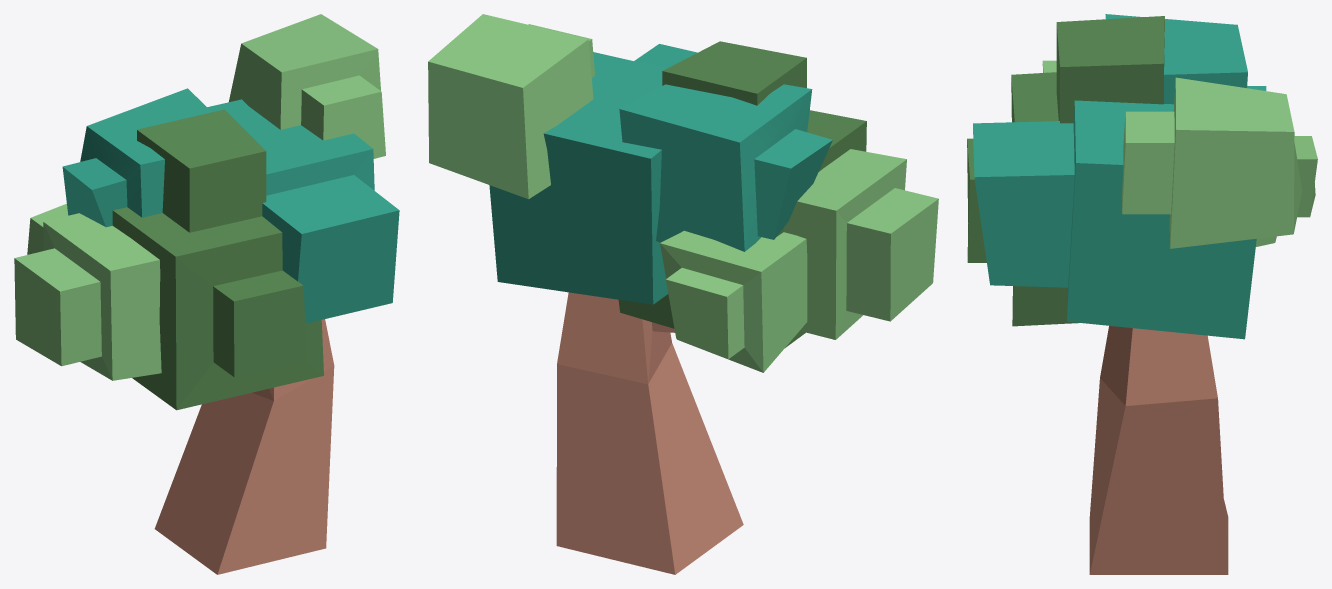
File: tree4.fbx
The picture shows the model from 3 angles, left to right: view 1: azimuth 30°, elevation 25°; view 2: azimuth 150°, elevation 25°; view 3: azimuth 270°, elevation 25°; orthographic projection. The views are drawn at different scales.
Visible parts, largest first — view 1: tree4; view 2: tree4; view 3: tree4.
Part boxes in pixels (<box>): tree4: <box>14,14,399,574</box>; tree4: <box>428,14,938,574</box>; tree4: <box>967,14,1317,574</box>.
Bounding box in the file's own units: 190 × 219 × 141.
